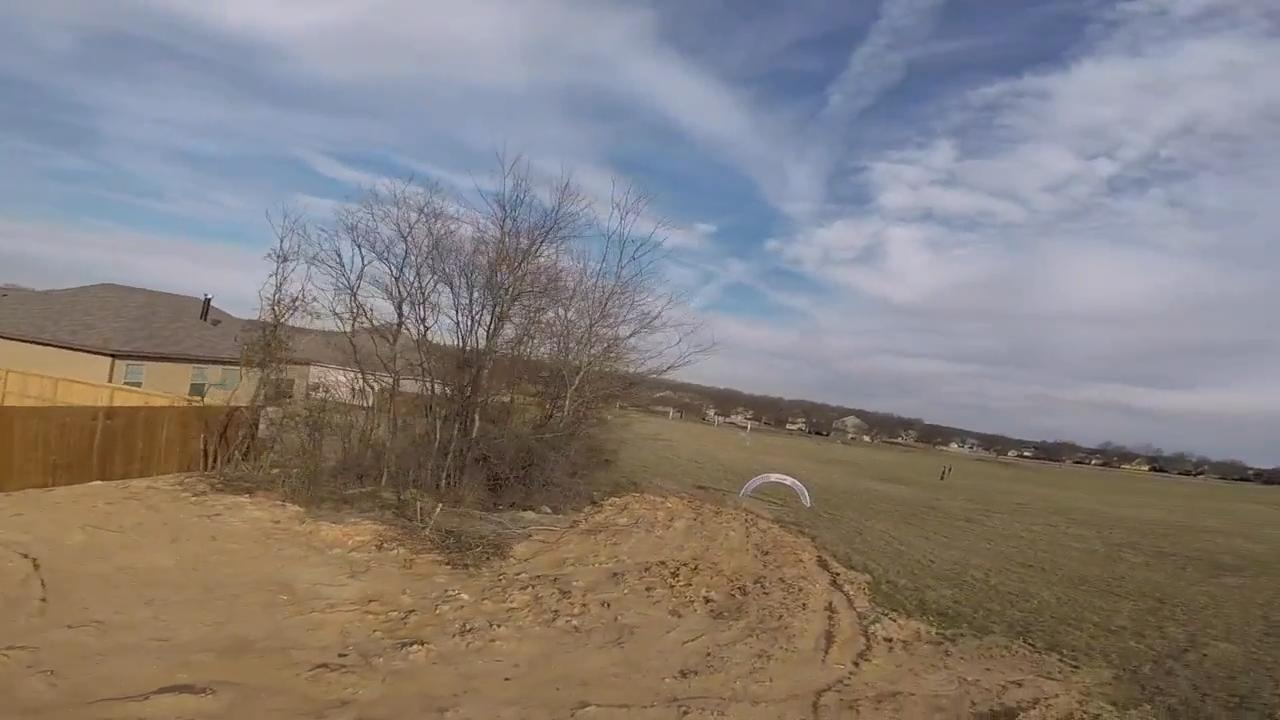gate: (738, 472, 813, 520)
